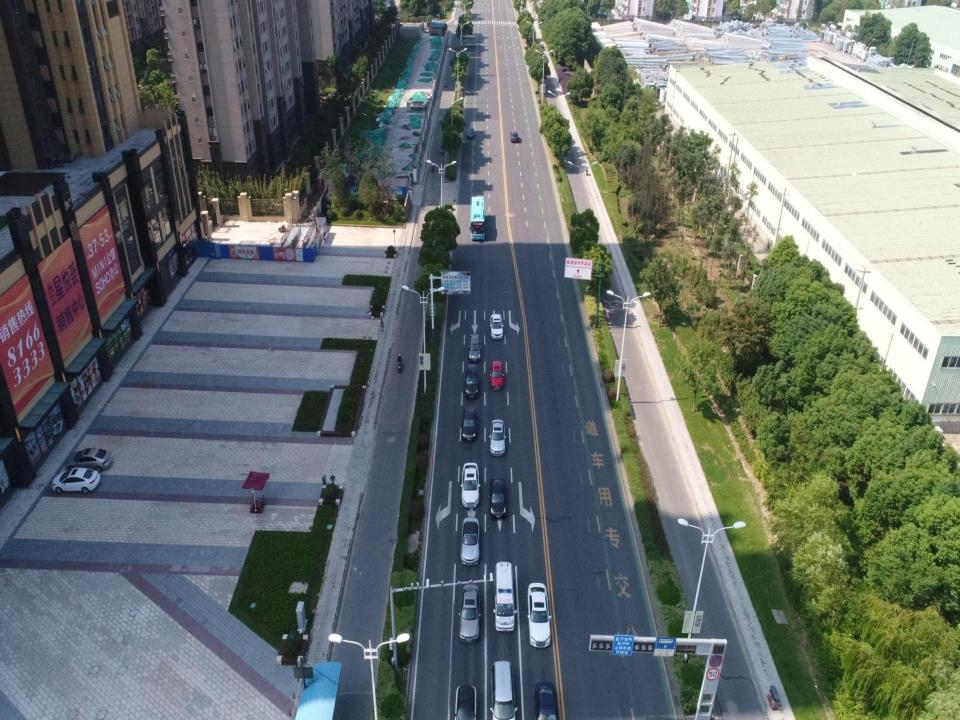bus: (468, 193, 487, 240)
car: (527, 579, 552, 648), (459, 578, 479, 646), (51, 469, 101, 492), (63, 446, 113, 468), (451, 679, 478, 719), (532, 680, 558, 720), (459, 459, 480, 507), (460, 514, 478, 567), (489, 477, 505, 518), (490, 416, 505, 457), (460, 405, 476, 443), (464, 362, 479, 399), (489, 309, 504, 341), (490, 359, 504, 390), (469, 335, 480, 363), (465, 125, 475, 139), (511, 130, 520, 143)
truck: (492, 560, 516, 636)
van: (488, 662, 515, 719)
